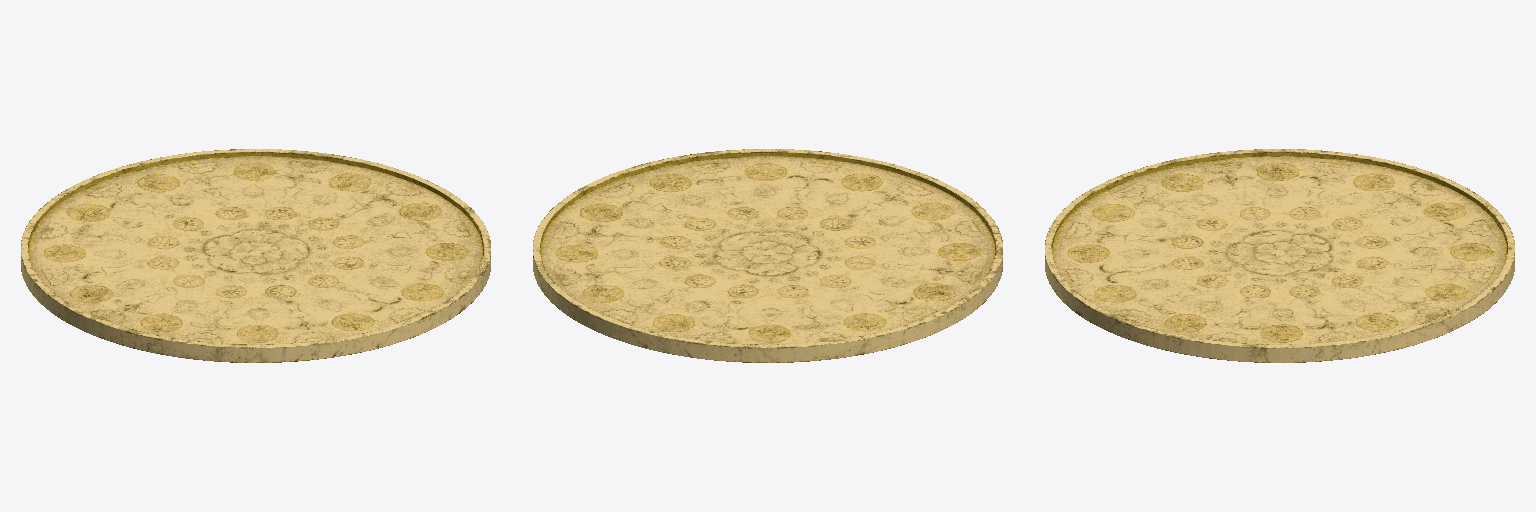
3 views of the same model, side by side, from view 1: azimuth 30°, elevation 25°; view 2: azimuth 150°, elevation 25°; view 3: azimuth 270°, elevation 25° (orthographic).
Visible parts, largest first — view 1: Coin_Gold_Ornamental; view 2: Coin_Gold_Ornamental; view 3: Coin_Gold_Ornamental.
Part boxes in pixels (left/top/right/bottom): Coin_Gold_Ornamental: left=21, top=149, right=490, bottom=362; Coin_Gold_Ornamental: left=533, top=149, right=1002, bottom=362; Coin_Gold_Ornamental: left=1045, top=149, right=1514, bottom=362.
Bounding box in the file's own units: 0.5135 × 0.0187 × 0.5135.
Materials: 1 (1 with a texture image).